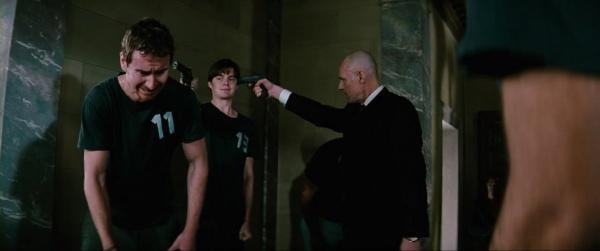Gun: (241, 75, 269, 99), (174, 60, 195, 89)
